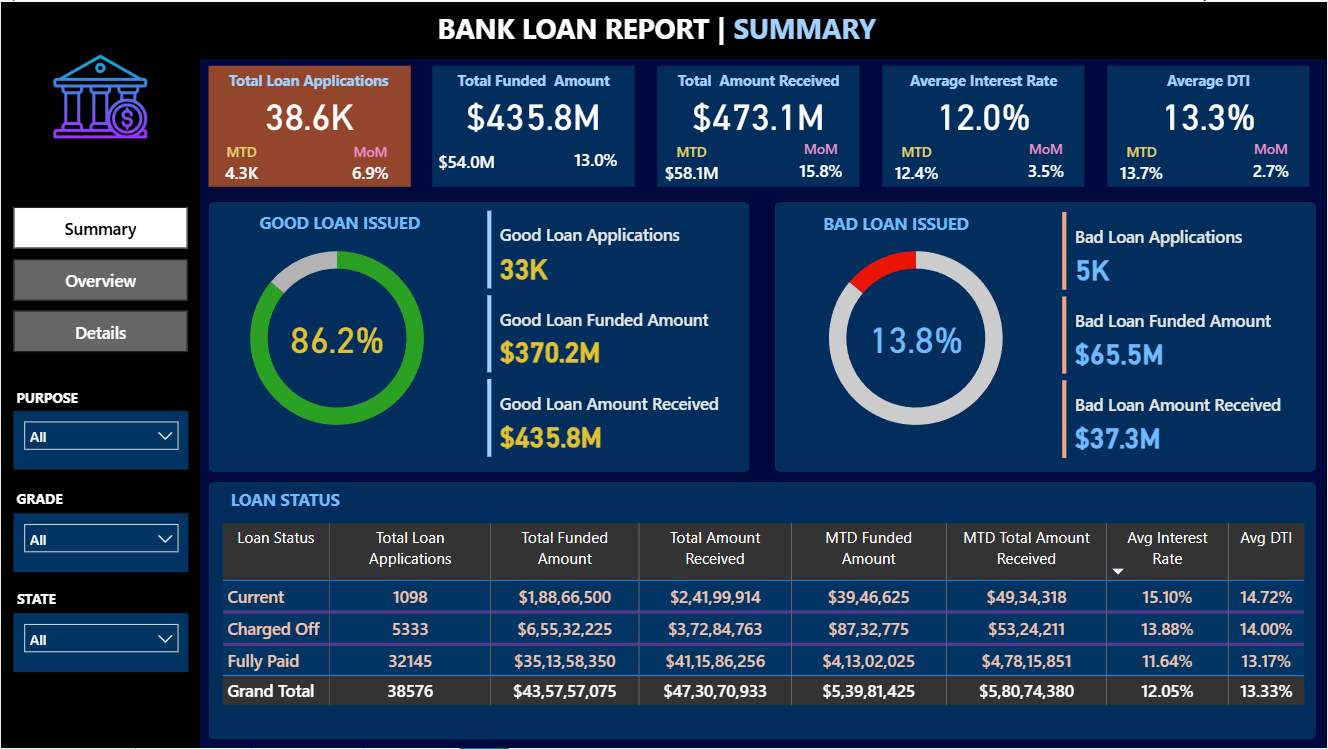

What the dashboard file says about the page in this screenshot:
{"tool":"powerbi","page":{"name":"Summary","canvas":[1280,720],"ordinal":0},"visuals":[{"type":"shape","box":[0,0,1280.3,55],"z":0},{"type":"shape","box":[633.4,61.2,195.4,117],"z":0,"group":"g3"},{"type":"shape","box":[200.3,61.5,195.4,117],"z":0,"group":"g1"},{"type":"shape","box":[417.1,61.5,195.4,117],"z":0,"group":"g2"},{"type":"shape","box":[850.8,61.5,195.4,117],"z":0,"group":"g4"},{"type":"shape","box":[1068.3,61.5,195.4,117],"z":0,"group":"g5"},{"type":"card","fields":{"Values":["bank_loan_data.Total Amount Received"]},"box":[640.6,80.5,181,54.3],"z":1000,"group":"g3"},{"type":"card","fields":{"Values":["bank_loan_data.Total Loan Applications"]},"box":[207.5,80.8,181,54.3],"z":1000,"group":"g1"},{"type":"card","fields":{"Values":["bank_loan_data.Total Funded Amount"]},"box":[424.3,80.8,181,54.3],"z":1000,"group":"g2"},{"type":"card","fields":{"Values":["bank_loan_data.Avg Interest Rate"]},"box":[858,80.8,181,54.3],"z":1000,"group":"g4"},{"type":"card","fields":{"Values":["bank_loan_data.Avg DTI"]},"box":[1075.5,80.8,181,54.3],"z":1000,"group":"g5"},{"type":"shape","box":[200.3,193,522.4,260.6],"z":1000},{"type":"shape","box":[0,54.9,192.1,665.5],"z":2000},{"type":"textbox","box":[640,61.2,181,30.2],"z":2000,"group":"g3"},{"type":"textbox","box":[206.3,61.5,181,33.8],"z":2000,"group":"g1"},{"type":"textbox","box":[423.7,61.5,181,30.2],"z":2000,"group":"g2"},{"type":"textbox","box":[857.4,61.5,181,30.2],"z":2000,"group":"g4"},{"type":"textbox","box":[1074.9,61.5,181,30.2],"z":2000,"group":"g5"},{"type":"card","title":"MTD","fields":{"Values":["bank_loan_data.MTD Loan Applications"]},"box":[200.3,135.1,63.9,43.4],"z":3000,"group":"g1"},{"type":"card","title":"MTD","fields":{"Values":["bank_loan_data.MTD Total Amount Received"]},"box":[632.8,135.4,66.4,43.4],"z":3000,"group":"g3"},{"type":"card","title":"MTD","fields":{"Values":["bank_loan_data.MTD Funded Amount"]},"box":[416.5,135.7,66.4,43.4],"z":3000,"group":"g2"},{"type":"card","title":"MTD","fields":{"Values":["bank_loan_data.MTD Avg Interest Rate"]},"box":[850.2,135.7,66.4,43.4],"z":3000,"group":"g4"},{"type":"card","title":"MTD","fields":{"Values":["bank_loan_data.MTD Avg DTI"]},"box":[1067.7,135.7,66.4,43.4],"z":3000,"group":"g5"},{"type":"card","fields":{"Values":["bank_loan_data.Good Loan %"]},"box":[266.6,296.8,115.8,54.3],"z":3000},{"type":"card","title":"MoM","fields":{"Values":["bank_loan_data.MoM Amount Received"]},"box":[755.9,132.4,70,43.4],"z":4000,"group":"g3"},{"type":"card","title":"MoM","fields":{"Values":["bank_loan_data.MoM Funded Amount"]},"box":[539.6,132.7,70,43.4],"z":4000,"group":"g2"},{"type":"card","title":"MoM","fields":{"Values":["bank_loan_data.MoM Avg Int Rate"]},"box":[973.3,132.7,70,43.4],"z":4000,"group":"g4"},{"type":"card","title":"MoM","fields":{"Values":["bank_loan_data.MoM Avg DTI"]},"box":[1190.8,132.7,70,43.4],"z":4000,"group":"g5"},{"type":"card","title":"MoM","fields":{"Values":["bank_loan_data.MoM Loan Application"]},"box":[324.6,135.1,63.9,43.4],"z":4000,"group":"g1"},{"type":"textbox","box":[236.5,196.6,181,33.8],"z":4000},{"type":"textbox","box":[416.2,2.4,447.6,51.9],"z":5000},{"type":"group","id":"g1","title":"Group 1","box":[200.3,61.5,195.4,117],"z":6000},{"type":"group","id":"g2","title":"Group 1","box":[416.5,61.5,195.4,117],"z":7000},{"type":"group","id":"g3","title":"Group 1","box":[632.8,61.2,196.6,118.2],"z":8000},{"type":"donutChart","fields":{"Category":["bank_loan_data.Good vs Bad Loan"],"Y":["bank_loan_data.Total Loan Applications"]},"box":[212.3,214.7,224.4,219.6],"z":9000},{"type":"group","id":"g4","title":"Group 1","box":[850.2,61.5,196.6,118.2],"z":10000},{"type":"group","id":"g5","title":"Group 1","box":[1067.7,61.5,196.6,118.2],"z":11000},{"type":"shape","box":[746.8,193,522.4,260.6],"z":12000},{"type":"cardVisual","fields":{"Data":["bank_loan_data.Good Loan Applications","bank_loan_data.Good Loan Funded Amount","bank_loan_data.Good Loan Amount Received"]},"box":[464.5,196.6,249.7,247.3],"z":13000},{"type":"donutChart","fields":{"Category":["bank_loan_data.Good vs Bad Loan"],"Y":["bank_loan_data.Total Loan Applications"]},"box":[770.9,214.7,224.4,219.6],"z":14000},{"type":"textbox","box":[773.3,197.9,181,33.8],"z":15000},{"type":"card","fields":{"Values":["bank_loan_data.Bad Loan %"]},"box":[825.2,296.8,115.8,54.3],"z":16000},{"type":"shape","box":[200.3,463.3,1068.9,248.5],"z":17000},{"type":"cardVisual","fields":{"Data":["bank_loan_data.Bad Loan Applications","bank_loan_data.Bad Loan Funded Amount","bank_loan_data.Bad Loan Amount Received"]},"box":[1019.4,197.9,249.7,247.3],"z":18000},{"type":"tableEx","fields":{"Values":["bank_loan_data.loan_status","bank_loan_data.Total Loan Applications","bank_loan_data.Total Funded Amount","bank_loan_data.Total Amount Received","bank_loan_data.MTD Funded Amount","bank_loan_data.MTD Total Amount Received","bank_loan_data.Avg Interest Rate","bank_loan_data.Avg DTI"]},"box":[207.5,498.3,1055.6,208.7],"z":19000},{"type":"textbox","box":[206.3,464.5,131.5,33.8],"z":20000},{"type":"slicer","fields":{"Values":["bank_loan_data.address_state"]},"box":[12.1,590.2,168.9,56.7],"z":21000},{"type":"textbox","box":[0,558.8,63.9,33.8],"z":22000},{"type":"slicer","fields":{"Values":["bank_loan_data.grade"]},"box":[12.1,493.6,168.9,56.7],"z":23000},{"type":"slicer","fields":{"Values":["bank_loan_data.purpose"]},"box":[12.1,394.7,168.9,56.7],"z":24000},{"type":"textbox","box":[1.2,462.3,67.6,33.8],"z":25000},{"type":"textbox","box":[0,364.6,84.5,33.8],"z":26000},{"type":"image","box":[43.4,27.7,105,126.7],"z":27000},{"type":"pageNavigator","box":[12.1,197.9,168.9,141.2],"z":28000}]}

Visuals, with their boxes in screenshot pixels (x1, y1, x2, y2), scaled from the page's 1280x720 canvas onto the 1328x749 screenshot:
shape: box(0, 0, 1327, 57)
shape: box(657, 64, 860, 185)
shape: box(208, 64, 411, 186)
shape: box(433, 64, 635, 186)
shape: box(883, 64, 1085, 186)
shape: box(1108, 64, 1311, 186)
card - bank_loan_data.Total Amount Received: box(665, 84, 852, 140)
card - bank_loan_data.Total Loan Applications: box(215, 84, 403, 141)
card - bank_loan_data.Total Funded Amount: box(440, 84, 628, 141)
card - bank_loan_data.Avg Interest Rate: box(890, 84, 1078, 141)
card - bank_loan_data.Avg DTI: box(1116, 84, 1304, 141)
shape: box(208, 201, 750, 472)
shape: box(0, 57, 199, 748)
textbox: box(664, 64, 852, 95)
textbox: box(214, 64, 402, 99)
textbox: box(440, 64, 627, 95)
textbox: box(890, 64, 1077, 95)
textbox: box(1115, 64, 1303, 95)
"MTD" card: box(208, 141, 274, 186)
"MTD" card: box(657, 141, 725, 186)
"MTD" card: box(432, 141, 501, 186)
"MTD" card: box(882, 141, 951, 186)
"MTD" card: box(1108, 141, 1177, 186)
card - bank_loan_data.Good Loan %: box(277, 309, 397, 365)
"MoM" card: box(784, 138, 857, 183)
"MoM" card: box(560, 138, 632, 183)
"MoM" card: box(1010, 138, 1082, 183)
"MoM" card: box(1235, 138, 1308, 183)
"MoM" card: box(337, 141, 403, 186)
textbox: box(245, 205, 433, 240)
textbox: box(432, 2, 896, 56)
"Group 1" group: box(208, 64, 411, 186)
"Group 1" group: box(432, 64, 635, 186)
"Group 1" group: box(657, 64, 861, 187)
donutChart - bank_loan_data.Good vs Bad Loan x bank_loan_data.Total Loan Applications: box(220, 223, 453, 452)
"Group 1" group: box(882, 64, 1086, 187)
"Group 1" group: box(1108, 64, 1312, 187)
shape: box(775, 201, 1317, 472)
cardVisual - bank_loan_data.Good Loan Applications x bank_loan_data.Good Loan Funded Amount: box(482, 205, 741, 462)
donutChart - bank_loan_data.Good vs Bad Loan x bank_loan_data.Total Loan Applications: box(800, 223, 1033, 452)
textbox: box(802, 206, 990, 241)
card - bank_loan_data.Bad Loan %: box(856, 309, 976, 365)
shape: box(208, 482, 1317, 740)
cardVisual - bank_loan_data.Bad Loan Applications x bank_loan_data.Bad Loan Funded Amount: box(1058, 206, 1317, 463)
tableEx - bank_loan_data.loan_status x bank_loan_data.Total Loan Applications: box(215, 518, 1310, 735)
textbox: box(214, 483, 350, 518)
slicer - bank_loan_data.address_state: box(13, 614, 188, 673)
textbox: box(0, 581, 66, 616)
slicer - bank_loan_data.grade: box(13, 513, 188, 572)
slicer - bank_loan_data.purpose: box(13, 411, 188, 470)
textbox: box(1, 481, 71, 516)
textbox: box(0, 379, 88, 414)
image: box(45, 29, 154, 161)
pageNavigator: box(13, 206, 188, 353)
